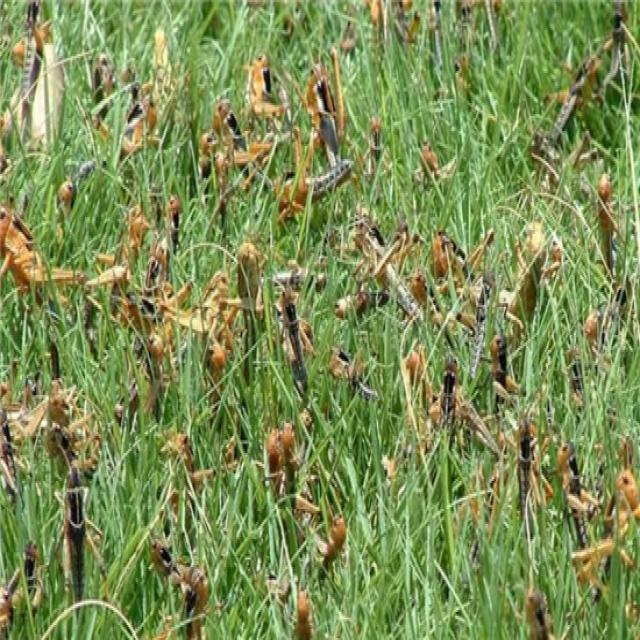ZhaMeng: (51, 454, 97, 625), (280, 293, 313, 400)
